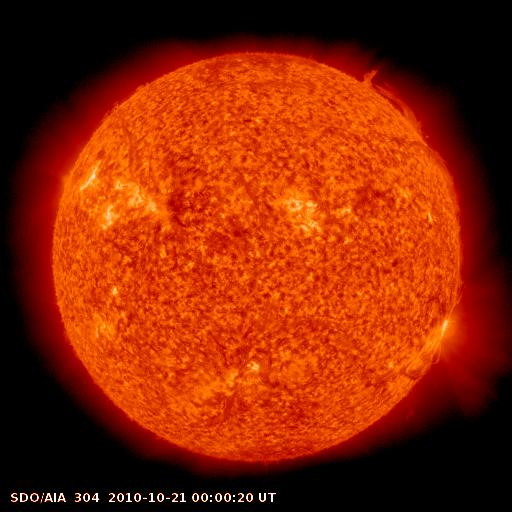prominence: (355, 59, 432, 141), (427, 143, 467, 220), (436, 265, 482, 313)
